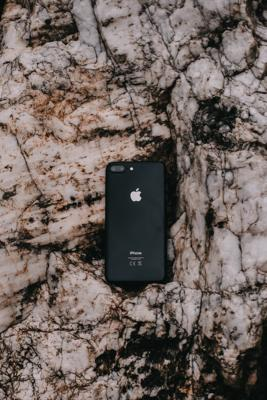Mobile Phone: (104, 160, 166, 284)
